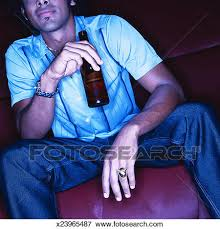beer: (78, 30, 110, 107)
